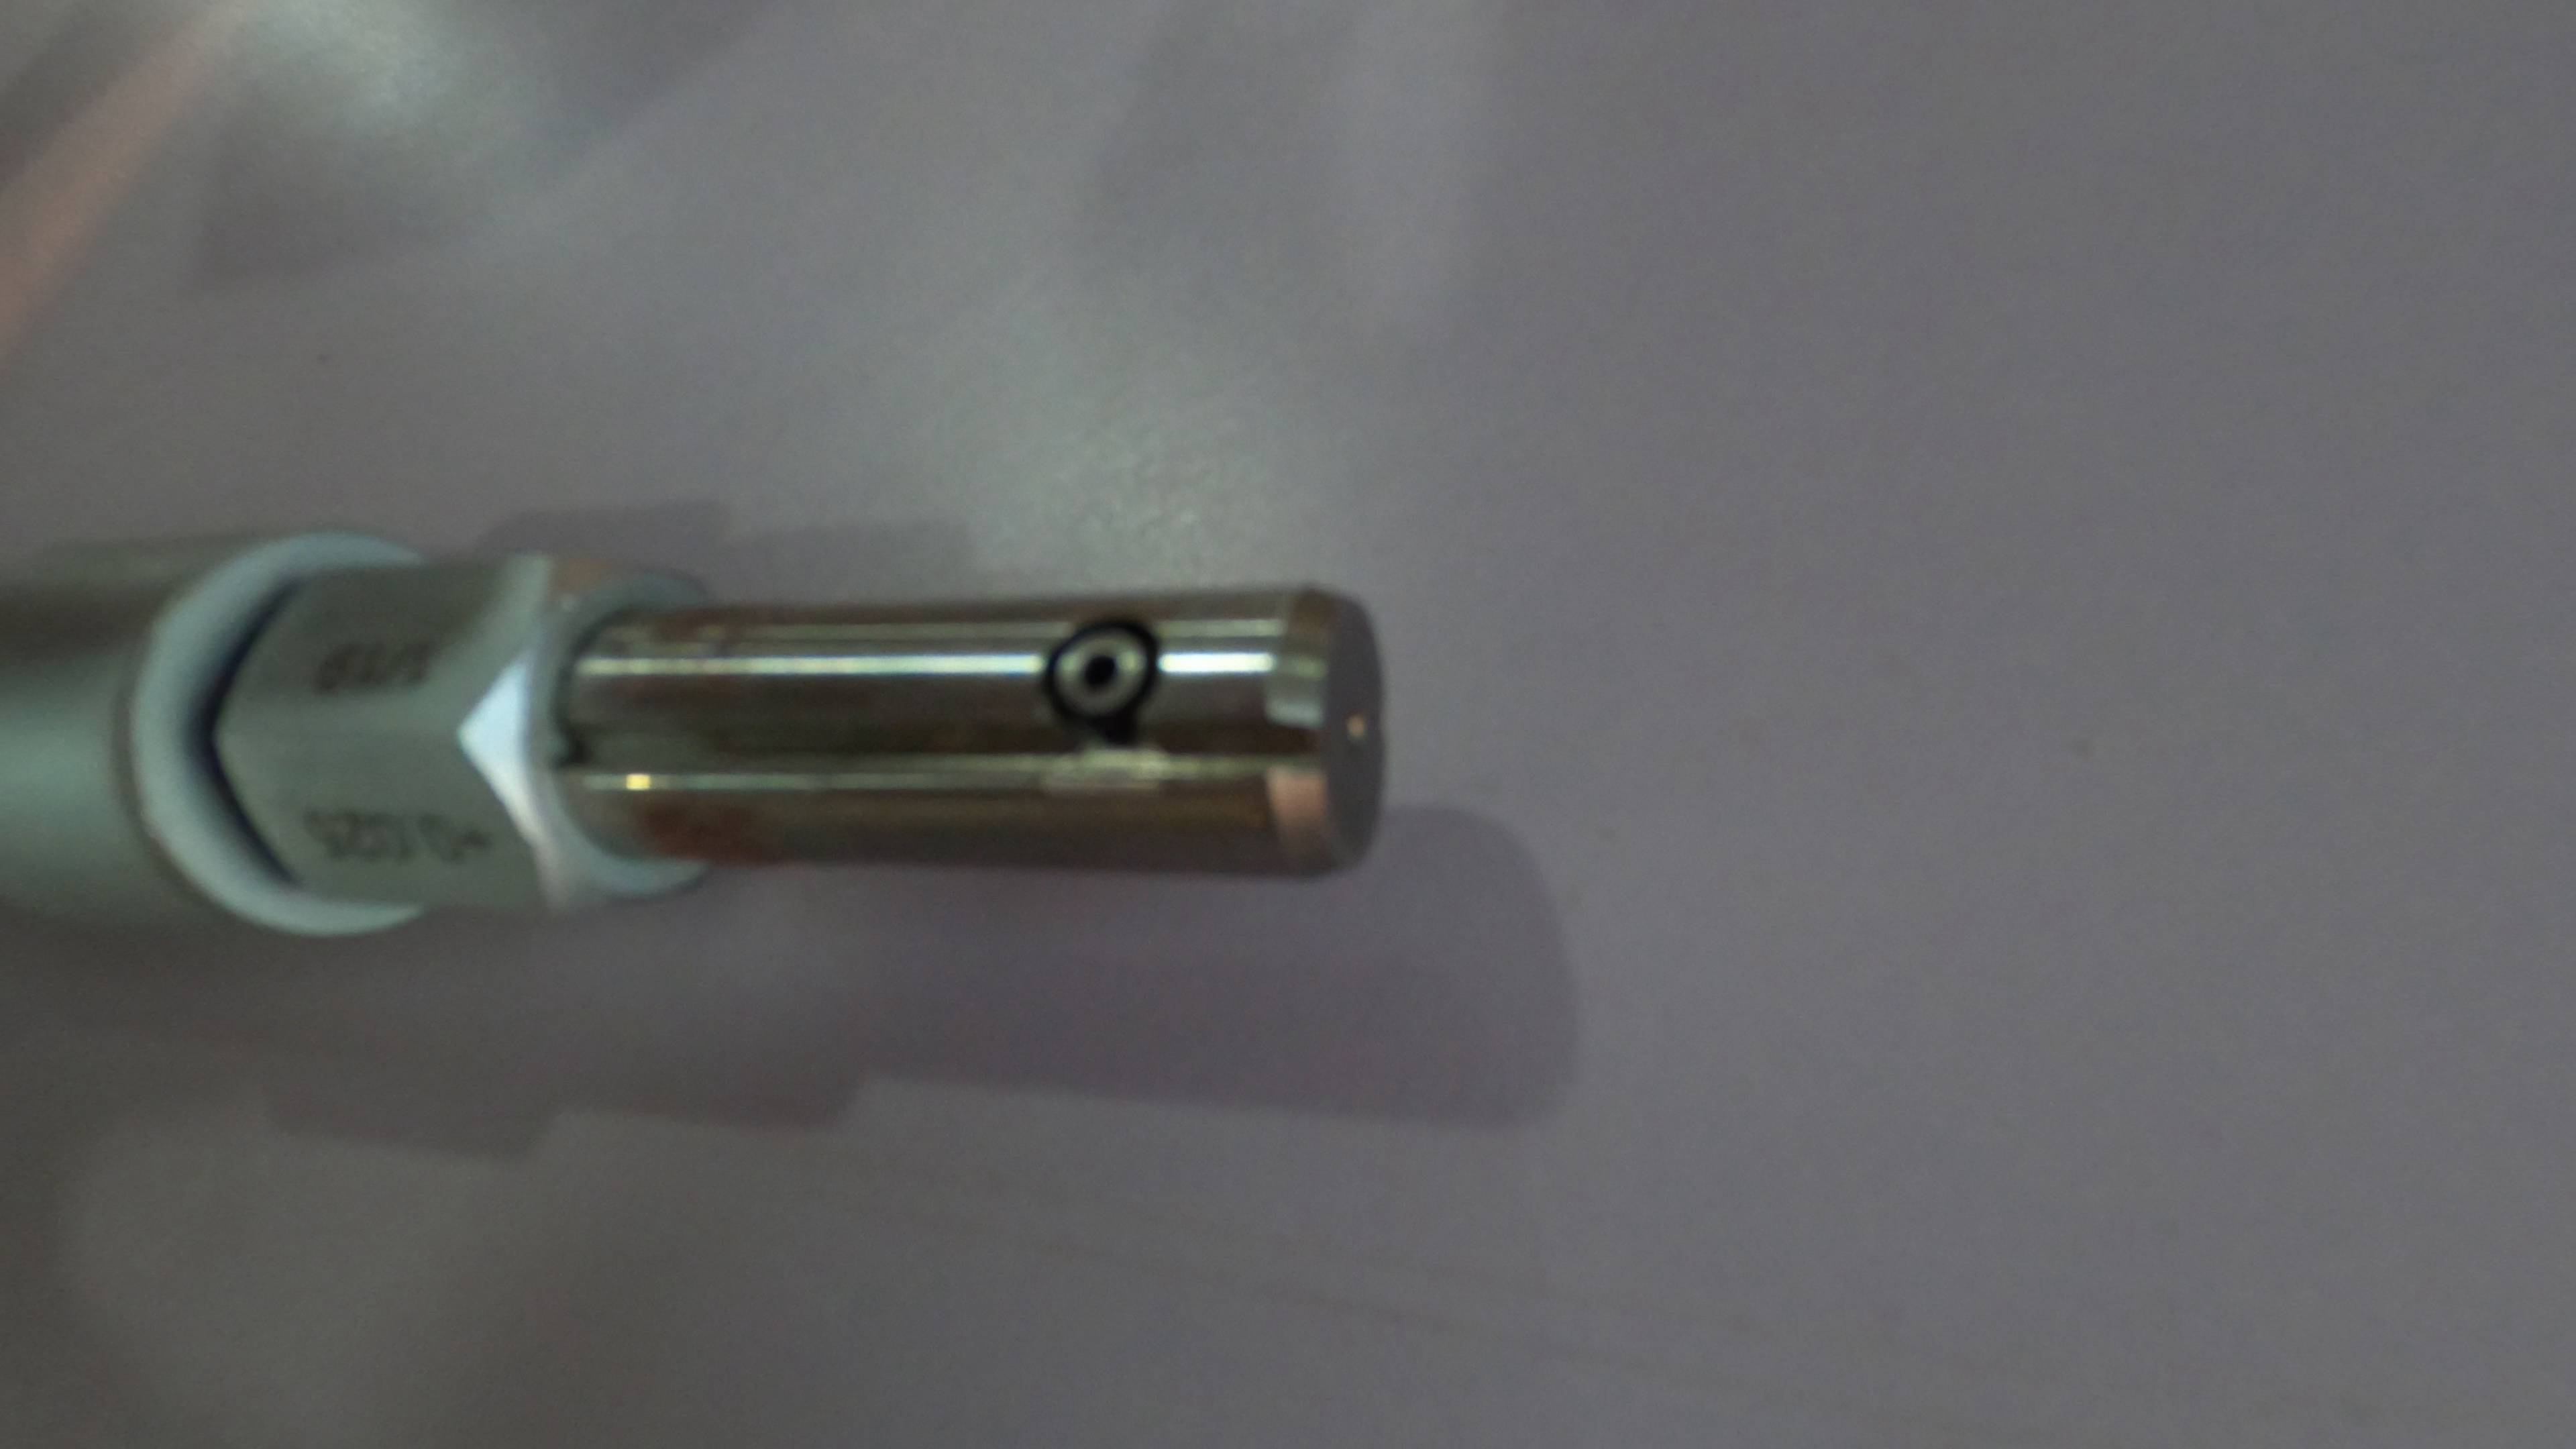air_gauge: (4, 531, 1389, 968)
